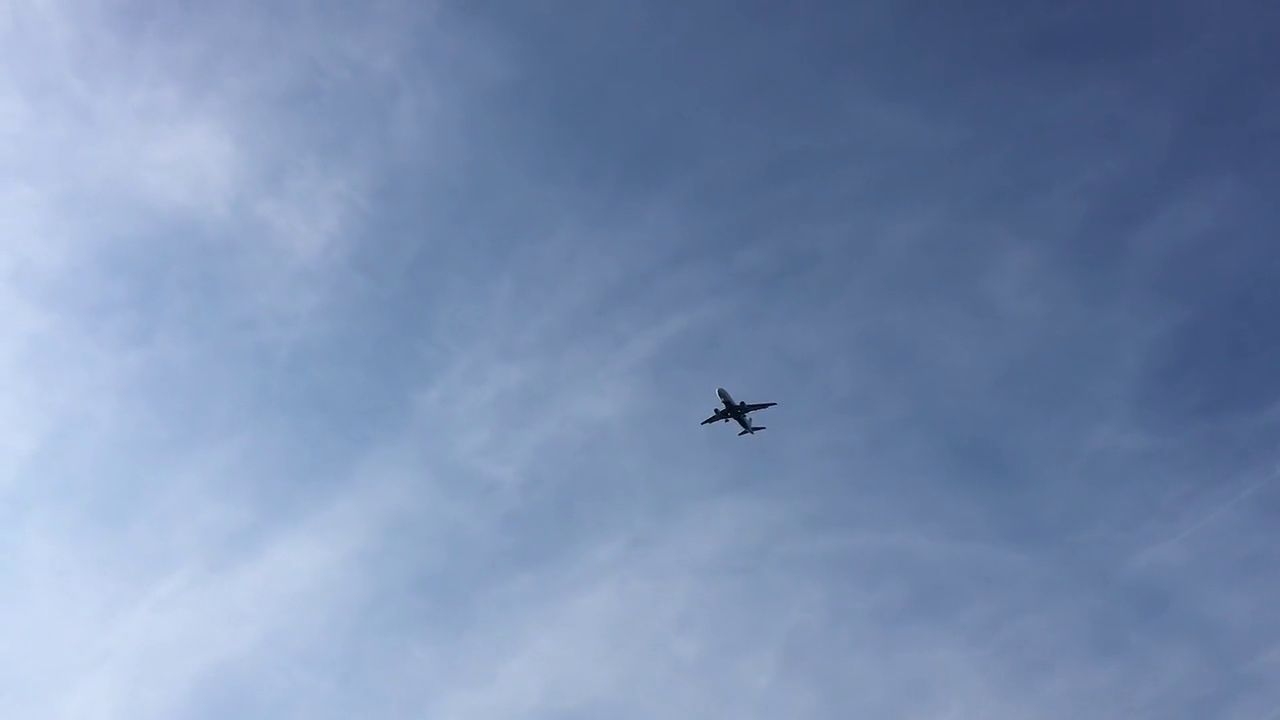plane: (700, 386, 776, 437)
